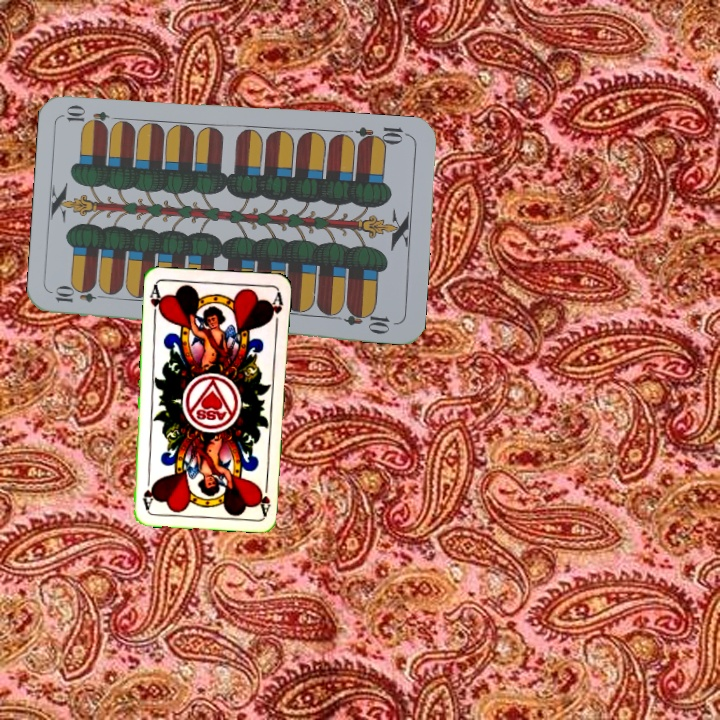E10: (352, 123, 412, 149), (51, 286, 110, 305)
HA: (146, 281, 166, 322), (256, 476, 273, 517)
